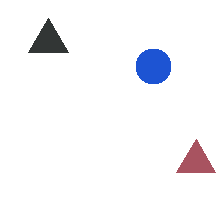circle: (136, 49, 170, 83)
triangle: (28, 18, 68, 52), (176, 139, 215, 172)
